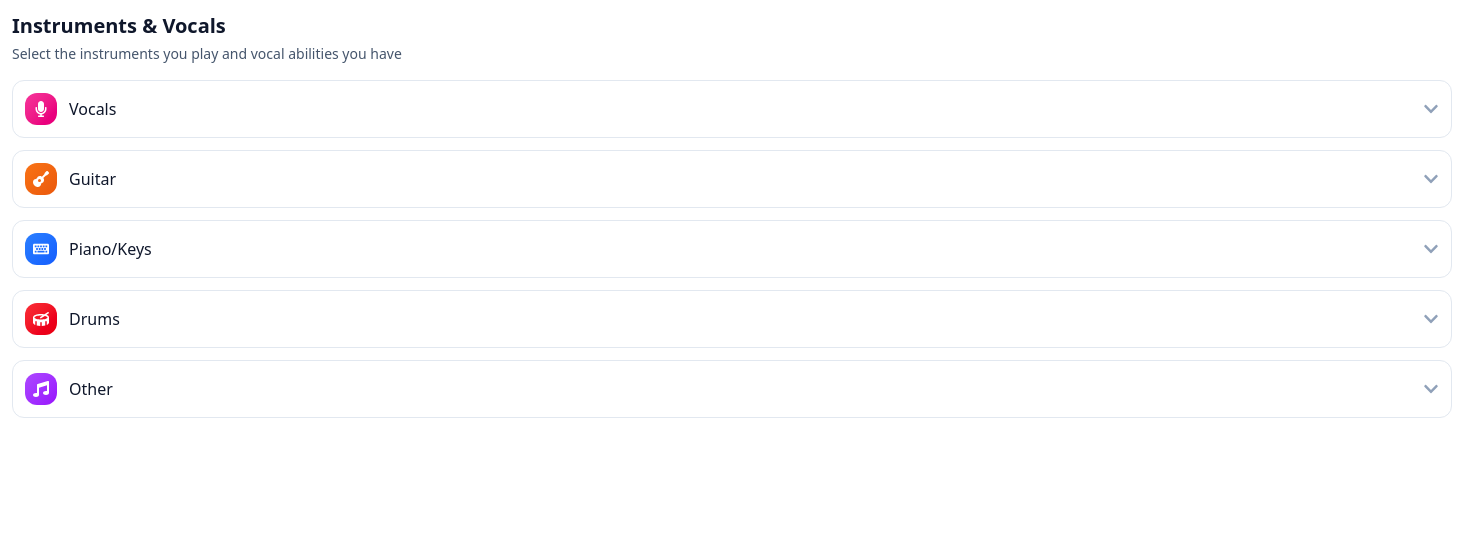
it: InstrumentSelector › Basic Rendering › should show subcategory options when category is expanded
The width and height of the screenshot is (1464, 548).
Note: Expand Guitar category
Click the button with test id "category-guitar". click: click(41, 179)
box: [13,151,1451,207]
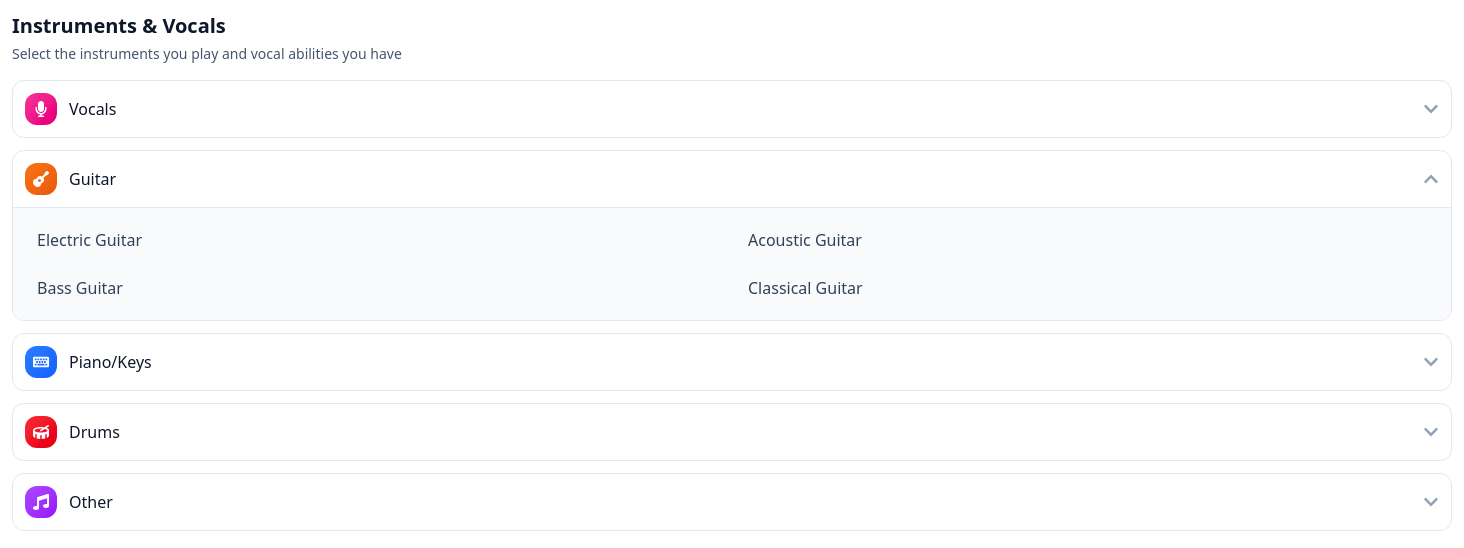
Check: the checkbox "Electric Guitar" is shown, box [25,220,728,260]
Check: the checkbox "Acoustic Guitar" is shown, box [736,220,1439,260]
Check: the checkbox "Bass Guitar" is shown, box [25,268,728,308]
